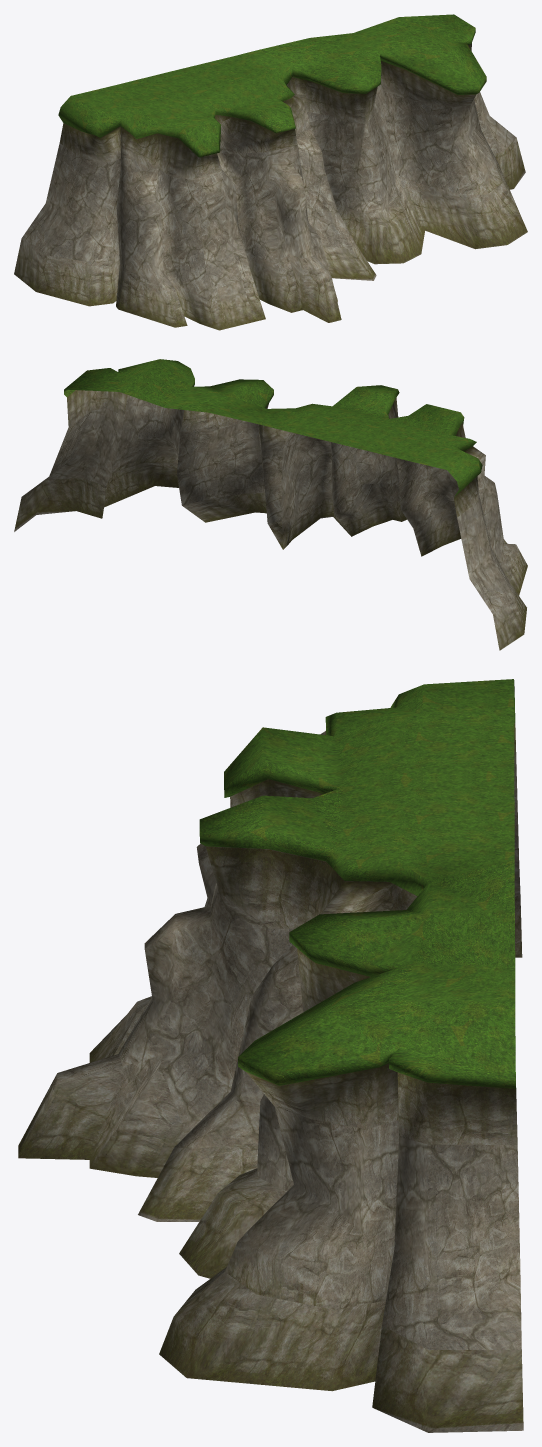
File: cliffb.FBX
3 views of the same model, one above another, from view 1: azimuth 30°, elevation 25°; view 2: azimuth 150°, elevation 25°; view 3: azimuth 270°, elevation 25° (orthographic). The views are drawn at different scales.
Parts seen in each view (by area): view 1: C1SNCLIFFLARGE; view 2: C1SNCLIFFLARGE; view 3: C1SNCLIFFLARGE.
Boxes of the visible parts, box(x1,y1,x2,y2) form: C1SNCLIFFLARGE: box(14, 14, 527, 330); C1SNCLIFFLARGE: box(14, 359, 527, 650); C1SNCLIFFLARGE: box(18, 679, 523, 1432).
Size of the model in its own units: 171 by 56.72 by 76.54.
Materials: 3 (3 with a texture image).
